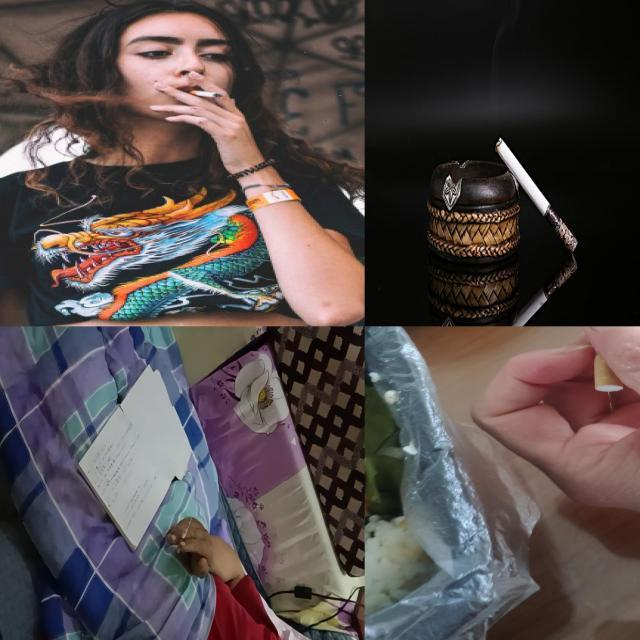smoking: (494, 132, 580, 255), (494, 256, 584, 326), (588, 326, 625, 393), (176, 516, 192, 554), (187, 90, 223, 98)
